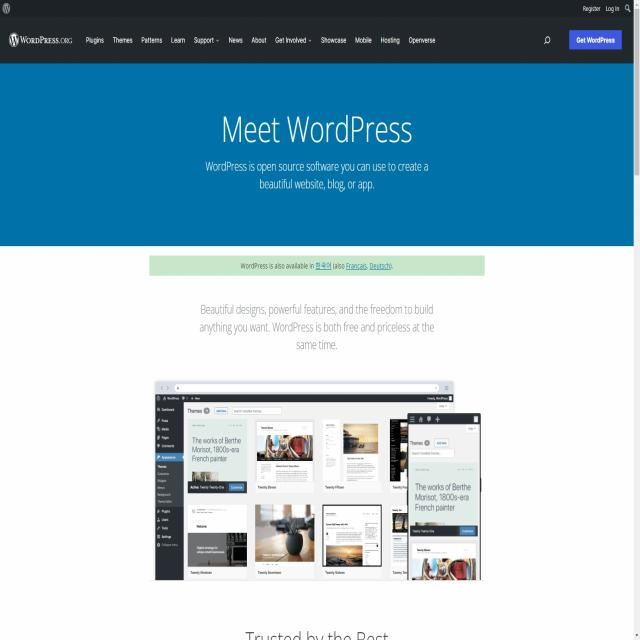menu-bar: (81, 29, 439, 50), (536, 26, 625, 52)
